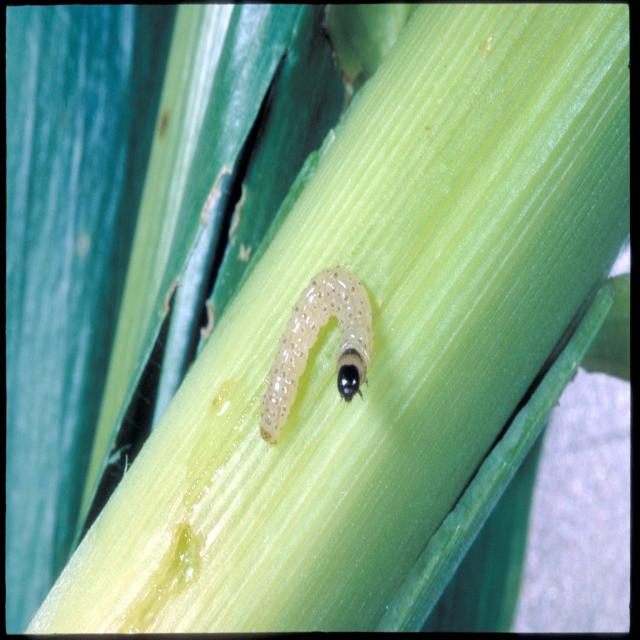cornborer-Larva-: (254, 263, 374, 450)
